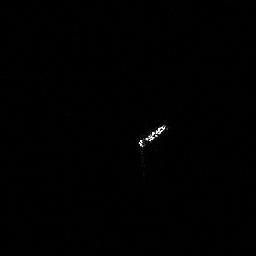ship: (134, 119, 171, 151)
